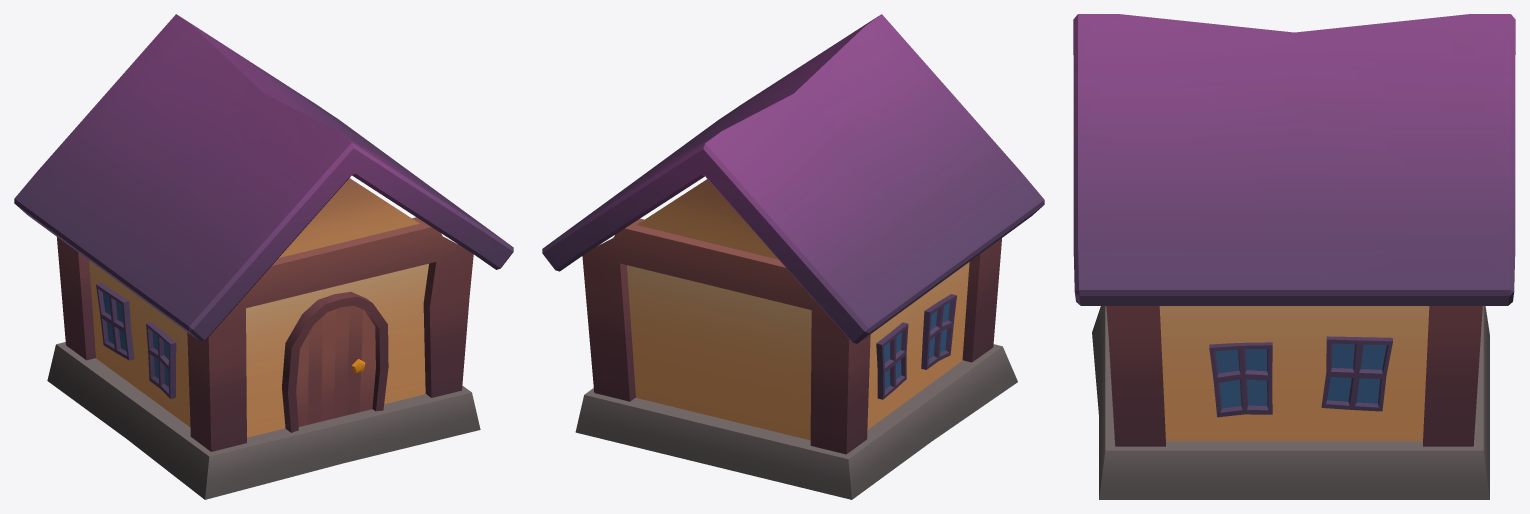
Rendered from village_purple_house.gltf.
3 views of the same model, side by side, from view 1: azimuth 30°, elevation 25°; view 2: azimuth 150°, elevation 25°; view 3: azimuth 270°, elevation 25° (orthographic). The views are drawn at different scales.
Visible parts, largest first — view 1: House_Purple_Material.005_0 (×30); view 2: House_Purple_Material.005_0 (×22); view 3: House_Purple_Material.005_0 (×21).
Boxes of the visible parts, <box> form: House_Purple_Material.005_0 (×30): <box>14,14,513,499</box>; House_Purple_Material.005_0 (×22): <box>542,14,1044,499</box>; House_Purple_Material.005_0 (×21): <box>1073,14,1515,499</box>.
Bounding box in the file's own units: 1.98 × 1.9 × 1.89.
1 material, 1 textured.
